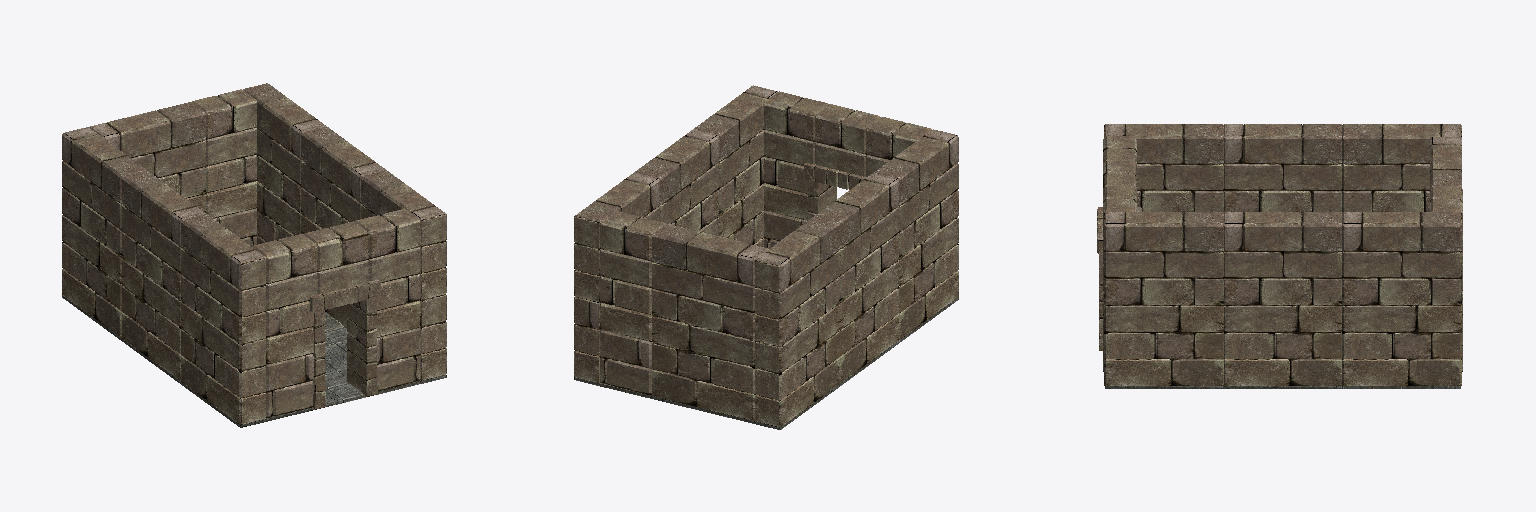
The picture shows the model from 3 angles: view 1: azimuth 30°, elevation 25°; view 2: azimuth 150°, elevation 25°; view 3: azimuth 270°, elevation 25°; orthographic projection.
Parts seen in each view (by area): view 1: Box3455, Box3456, Box4139, Box001ui003, Box001ui002, Box001ui, Box3458, Box4132, Box3457, Box4138, Box4133, Box4135 (+6 smaller); view 2: Box4132, Box3456, Box3455, Box4139, Box001ui, Box3457, Box001ui002, Box3458, Box4138, Box4133, Box001ui003, Box4135 (+1 smaller); view 3: Box3457, Box3458, Box4138, Box4139, Box3456, Box3455, Box4132, Box001ui002, Box001ui, Box001ui003, Box4133.
Part boxes in pixels (left/top/right/bottom): Box3455: left=181, top=214, right=265, bottom=424; Box3456: left=62, top=127, right=146, bottom=337; Box4139: left=122, top=171, right=205, bottom=380; Box001ui003: left=252, top=234, right=317, bottom=418; Box001ui002: left=355, top=209, right=420, bottom=391; Box001ui: left=192, top=89, right=256, bottom=246; Box3458: left=243, top=83, right=326, bottom=244; Box4132: left=89, top=102, right=205, bottom=212; Box3457: left=361, top=170, right=446, bottom=380; Box4138: left=301, top=127, right=385, bottom=326; Box4133: left=304, top=221, right=368, bottom=293; Box4135: left=347, top=298, right=377, bottom=396; Box4132: left=652, top=224, right=768, bottom=420; Box3456: left=755, top=216, right=839, bottom=426; Box3455: left=874, top=129, right=958, bottom=339; Box4139: left=815, top=173, right=898, bottom=382; Box001ui: left=600, top=211, right=665, bottom=395; Box3457: left=694, top=85, right=777, bottom=246; Box001ui002: left=764, top=91, right=829, bottom=248; Box3458: left=574, top=172, right=659, bottom=382; Box4138: left=635, top=129, right=718, bottom=235; Box4133: left=815, top=104, right=879, bottom=176; Box001ui003: left=866, top=117, right=931, bottom=176; Box4135: left=807, top=180, right=836, bottom=220; Box3457: left=1104, top=212, right=1223, bottom=385; Box3458: left=1342, top=212, right=1461, bottom=385; Box4138: left=1224, top=212, right=1341, bottom=385; Box4139: left=1224, top=124, right=1341, bottom=211; Box3456: left=1342, top=124, right=1461, bottom=211; Box3455: left=1104, top=124, right=1223, bottom=211; Box4132: left=1430, top=137, right=1461, bottom=188; Box001ui002: left=1103, top=186, right=1136, bottom=371; Box001ui: left=1430, top=186, right=1462, bottom=371; Box001ui003: left=1103, top=136, right=1136, bottom=189; Box4133: left=1103, top=161, right=1135, bottom=188.
Bounding box in the file's own units: 4.04 × 3.08 × 6.16.
Materials: 2 (2 with a texture image).